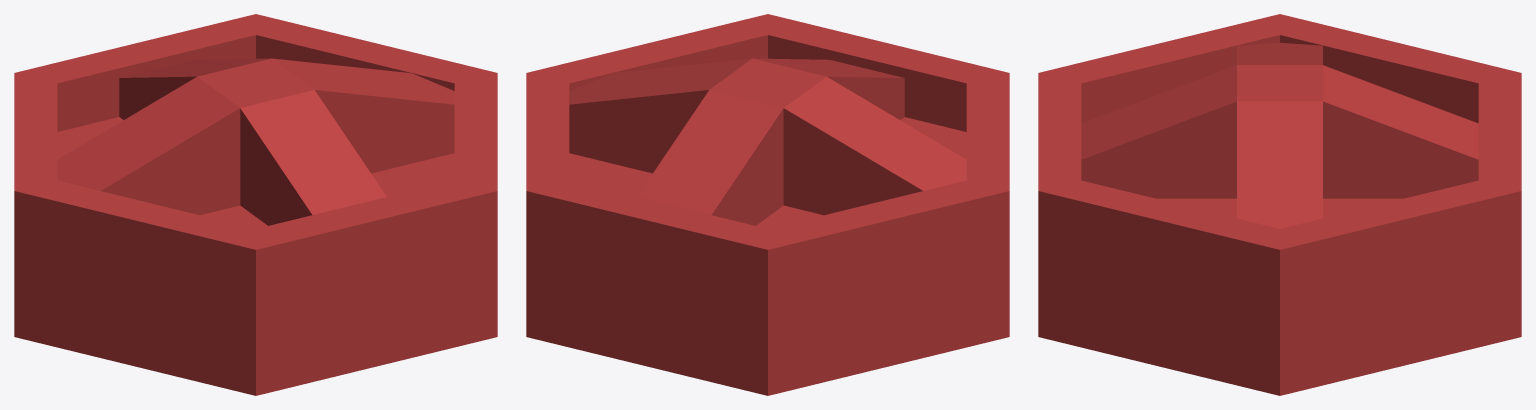
The model's file is Piece_1.fbx.
3 views of the same model, side by side, from view 1: azimuth 30°, elevation 25°; view 2: azimuth 150°, elevation 25°; view 3: azimuth 270°, elevation 25° (orthographic).
Parts seen in each view (by area): view 1: 개체_1; view 2: 개체_1; view 3: 개체_1.
Boxes of the visible parts, x1,y1,x2,y2 form: 개체_1: (14,14,497,395); 개체_1: (526,14,1009,395); 개체_1: (1038,14,1521,395).
Bounding box in the file's own units: 5.2 × 4.5 × 2.
